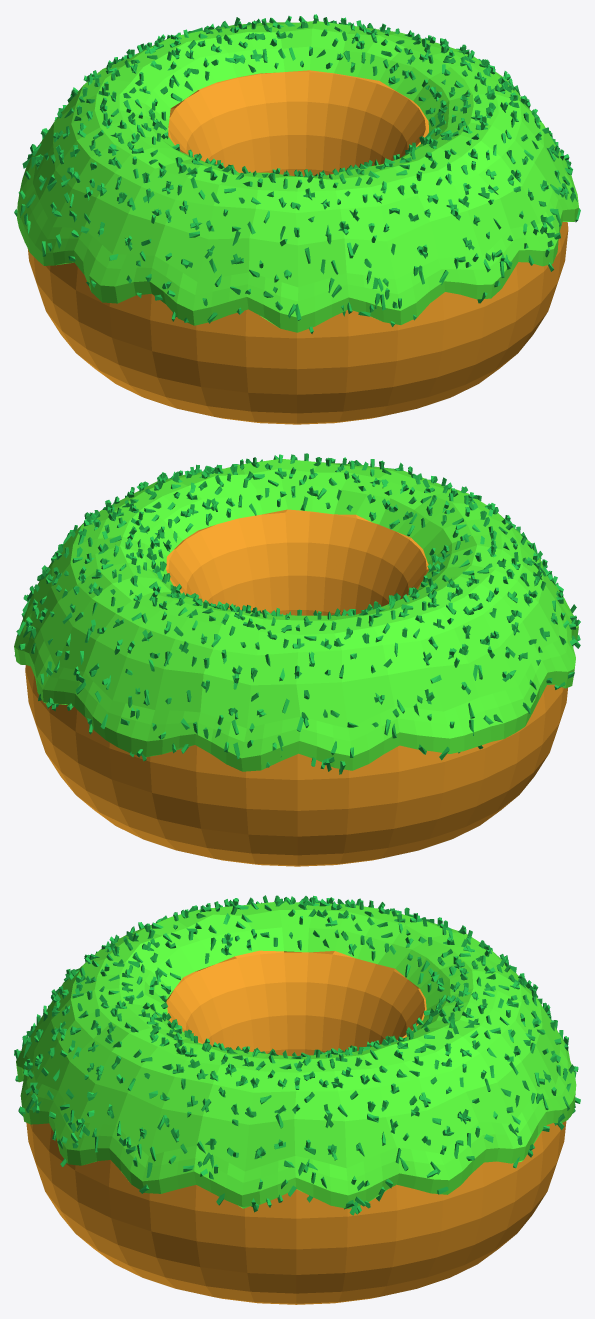
Rendered from donutHealthGreen.glb.
The picture shows the model from 3 angles, top to bottom: view 1: azimuth 30°, elevation 25°; view 2: azimuth 150°, elevation 25°; view 3: azimuth 270°, elevation 25°; orthographic projection.
Visible parts, largest first — view 1: donut.001; view 2: donut.001; view 3: donut.001.
Part boxes in pixels (x1,y1,x2,y2): donut.001: [14, 14, 580, 424]; donut.001: [14, 453, 580, 866]; donut.001: [14, 895, 580, 1304].
Bounding box in the file's own units: 0.991 × 0.4806 × 0.9999.
